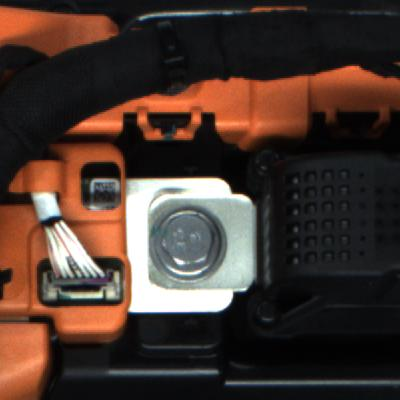nut_b: (148, 205, 232, 284)
